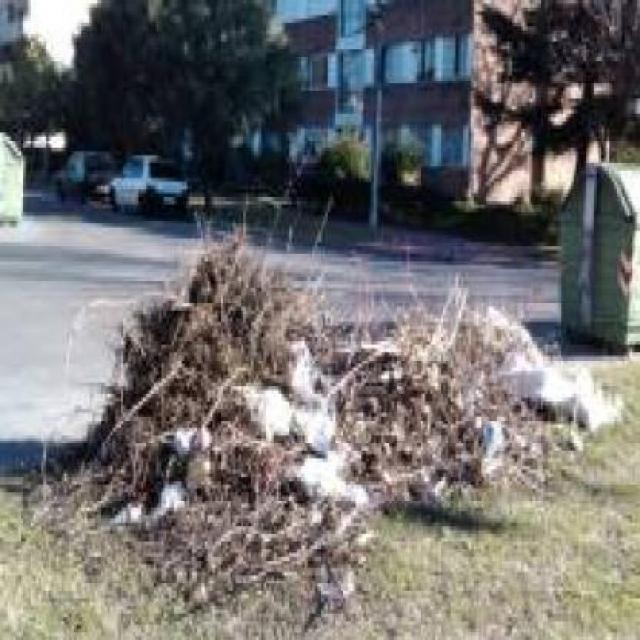garbage: (173, 254, 603, 451), (180, 455, 384, 588), (108, 300, 175, 523), (31, 432, 106, 523), (389, 459, 476, 508)
